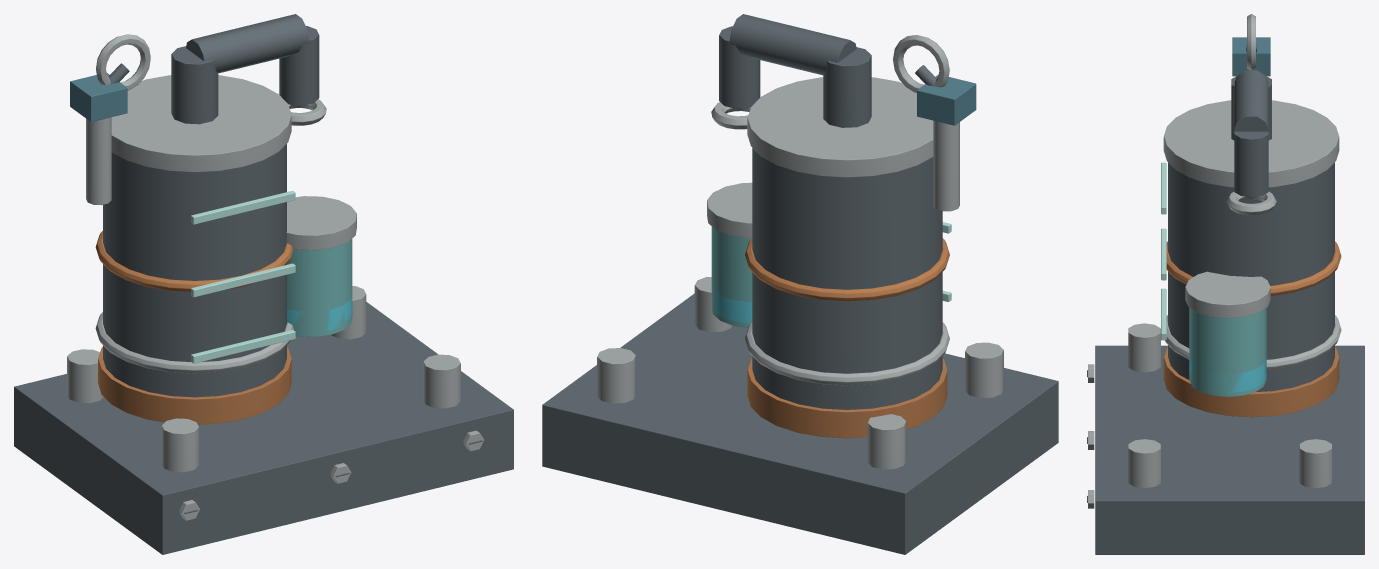
Rendered from 12_Water_Purifier_Station.fbx.
The picture shows the model from 3 angles, left to right: view 1: azimuth 30°, elevation 25°; view 2: azimuth 150°, elevation 25°; view 3: azimuth 270°, elevation 25°; orthographic projection. The views are drawn at different scales.
Visible parts, largest first — view 1: 12_Water_Purifier_Station; view 2: 12_Water_Purifier_Station; view 3: 12_Water_Purifier_Station.
Part boxes in pixels (x1,y1,x2,y2): 12_Water_Purifier_Station: (14,14,513,554); 12_Water_Purifier_Station: (542,14,1058,554); 12_Water_Purifier_Station: (1087,14,1364,554).
Size of the model in its own units: 1.72 by 2.08 by 1.3.
